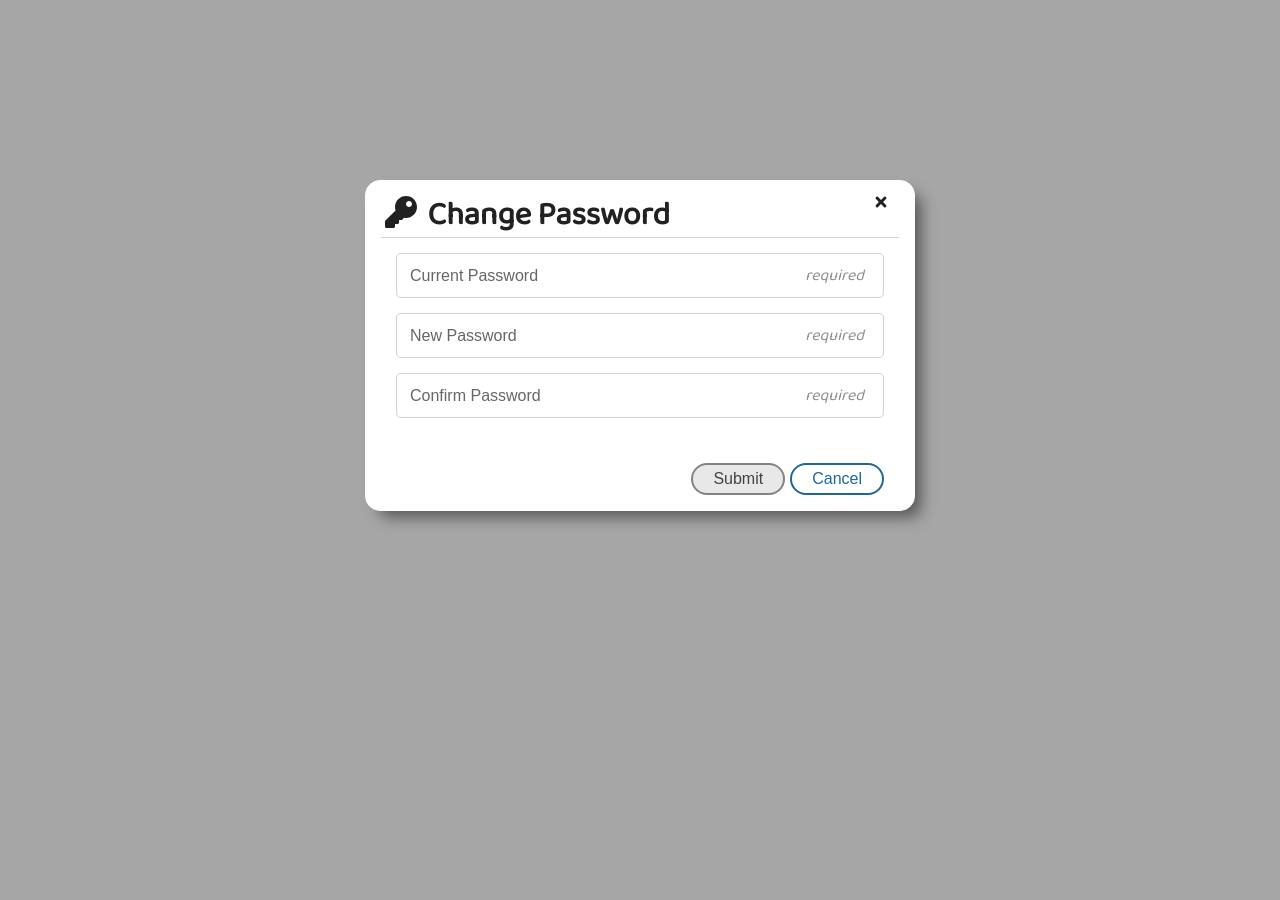
Test: <ChangePasswordModal /> › should enable the submit button if all input is present without input errors
Type "someCurrentPassword" into the password field with test id "currentPasswordInput.input" at [640, 276], box [396,253,884,298]
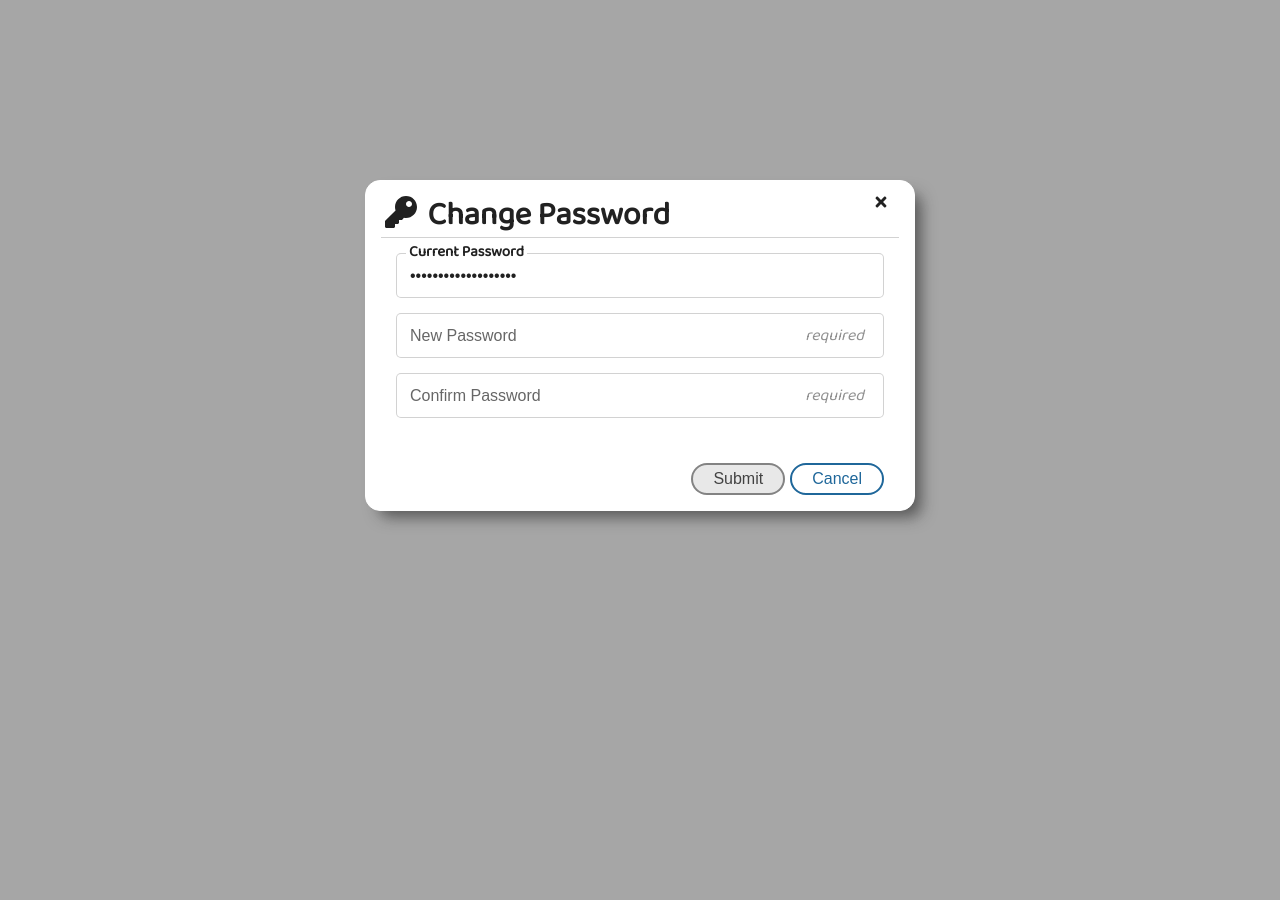
Type "someNewPasswordInput" into the password field with test id "newPasswordInput.input" at [640, 336], box [396,313,884,358]
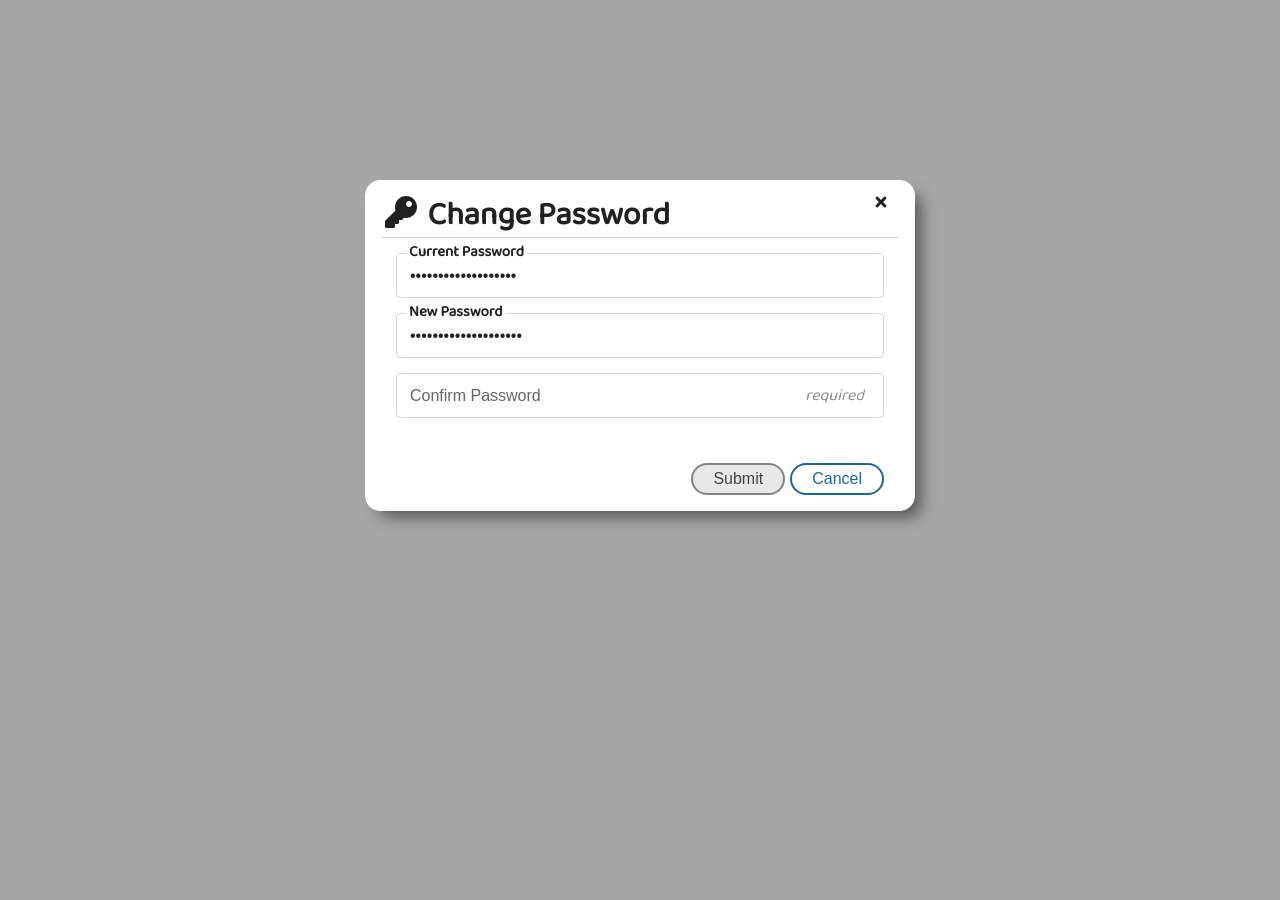
Type "someConfirmPasswordInput" into the password field with test id "confirmPasswordInput.input" at [640, 396], box [396,373,884,418]
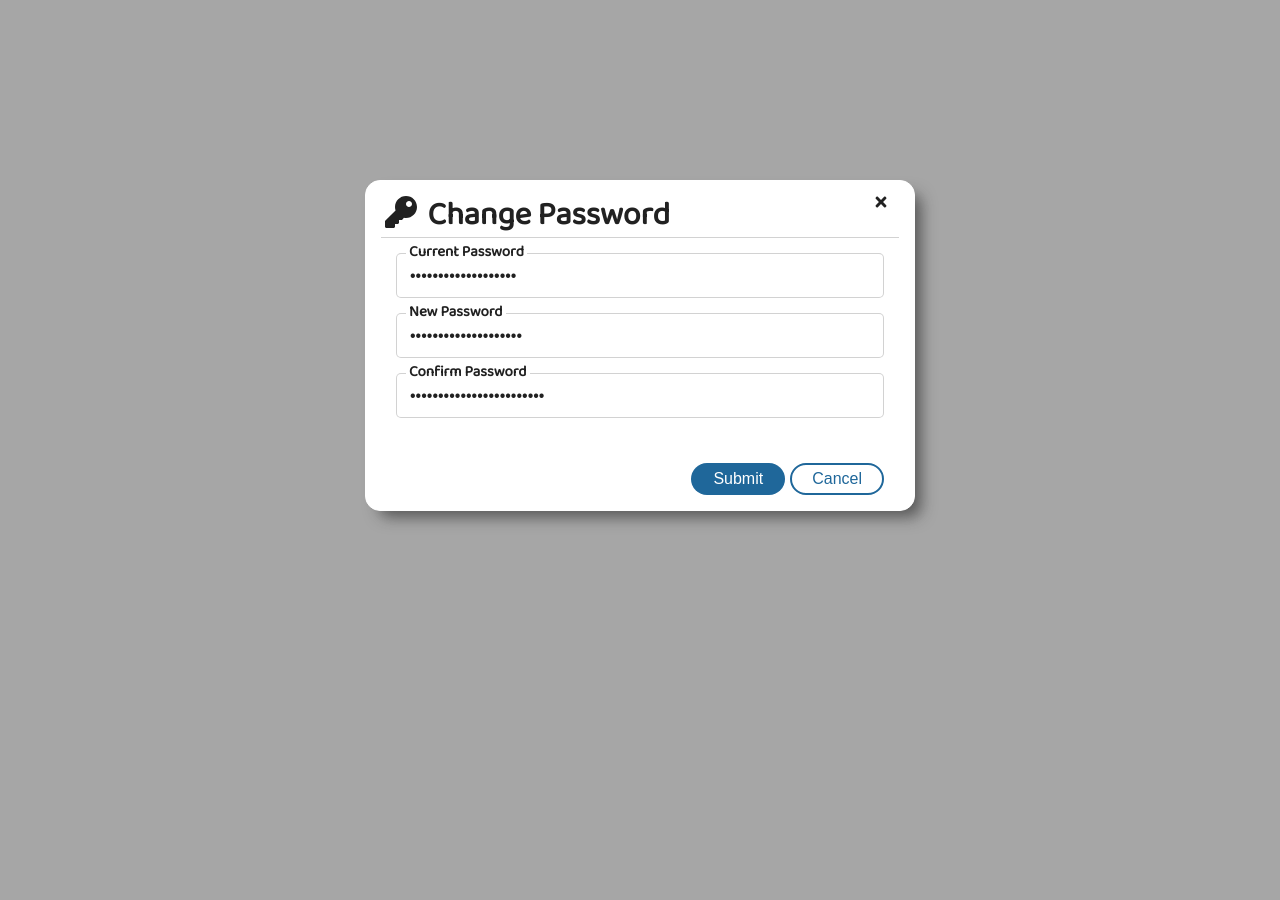
Check: the button with test id "changePasswordModal.actions.primaryButton" is enabled, box [691,463,785,495]
